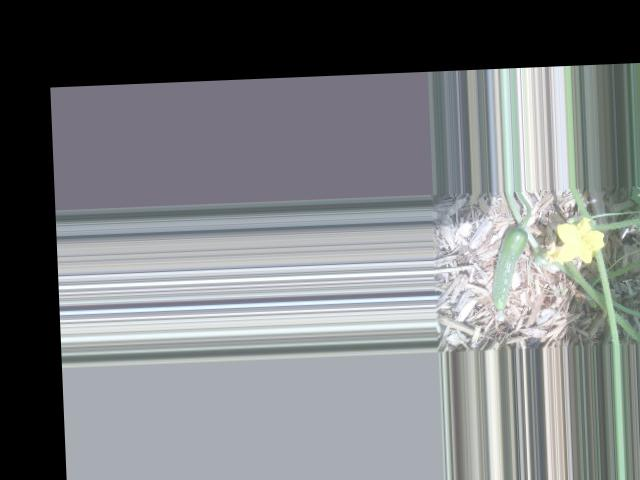cucumber: (488, 225, 531, 319)
